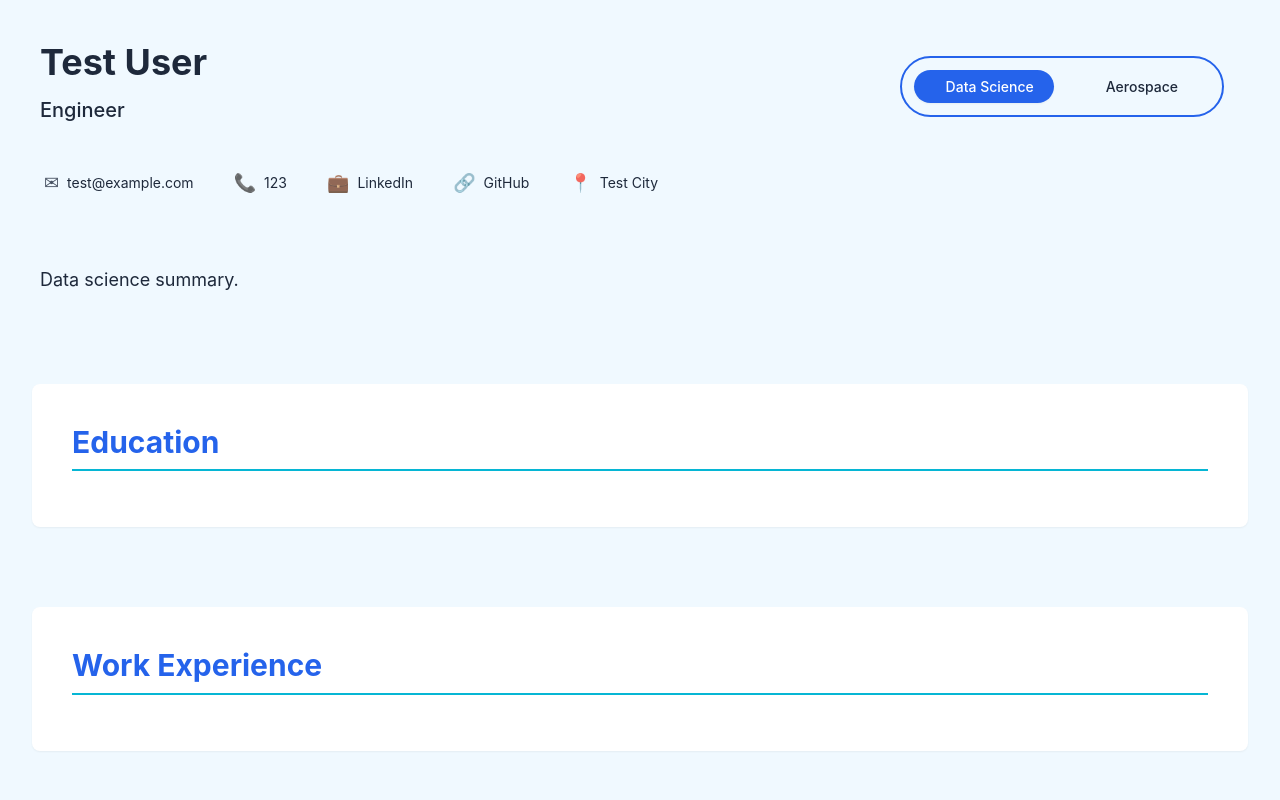
Test: Mode switching integration › Summary text updates when mode changes
expect the text "Data science summary." is shown: met, box left=40, top=269, right=239, bottom=290
Click the button with aria-label "switch to aerospace" at {"x": 990, "y": 86}, box left=900, top=56, right=1224, bottom=117
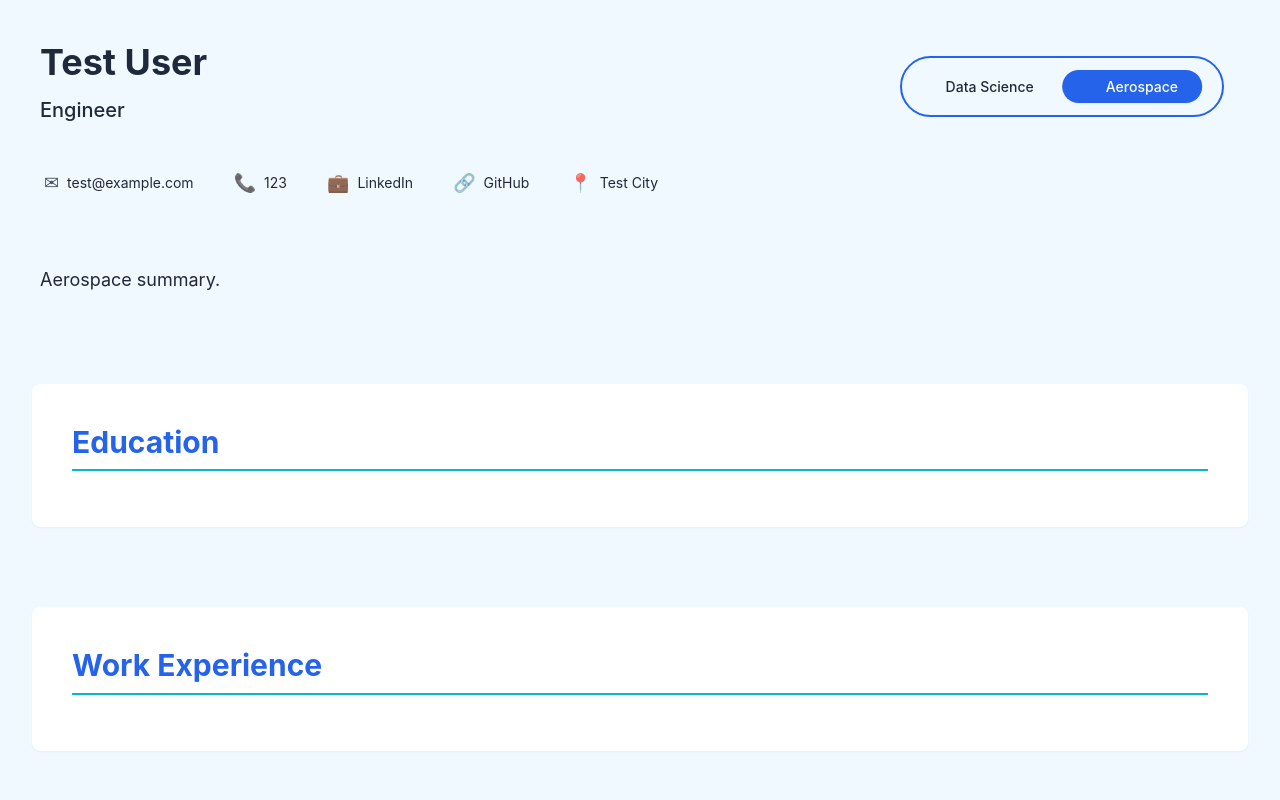
expect the text "Aerospace summary." is shown: met, box left=40, top=269, right=220, bottom=290
